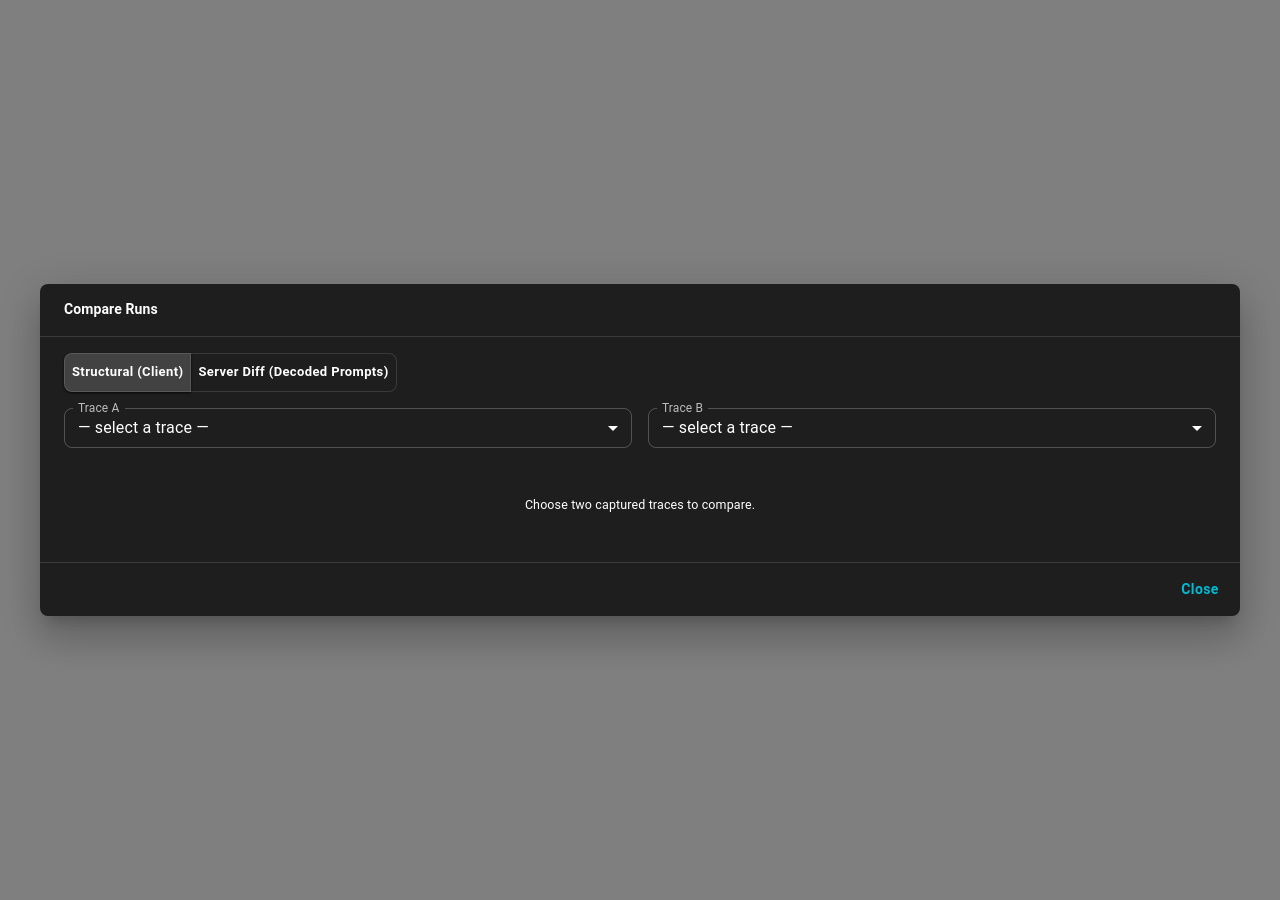
CompareRunsDialog › surfaces a server error from the diff endpoint
Select "Unscoped (1 requests)" in the dropdown labelled "Trace A" at (348, 428), box [64,408,632,448]
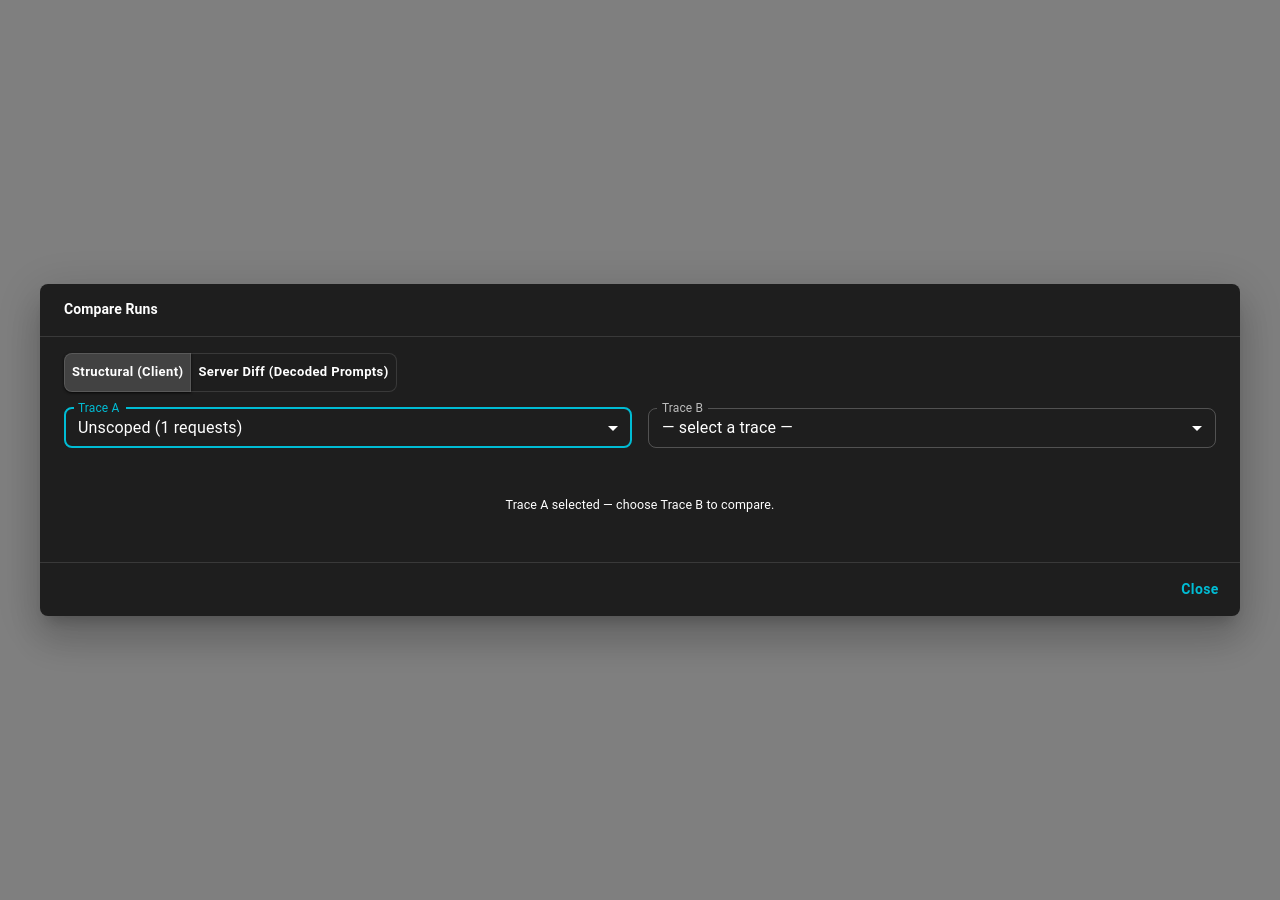
Select "Unscoped (1 requests)" in the dropdown labelled "Trace B" at (932, 428), box [648,408,1216,448]
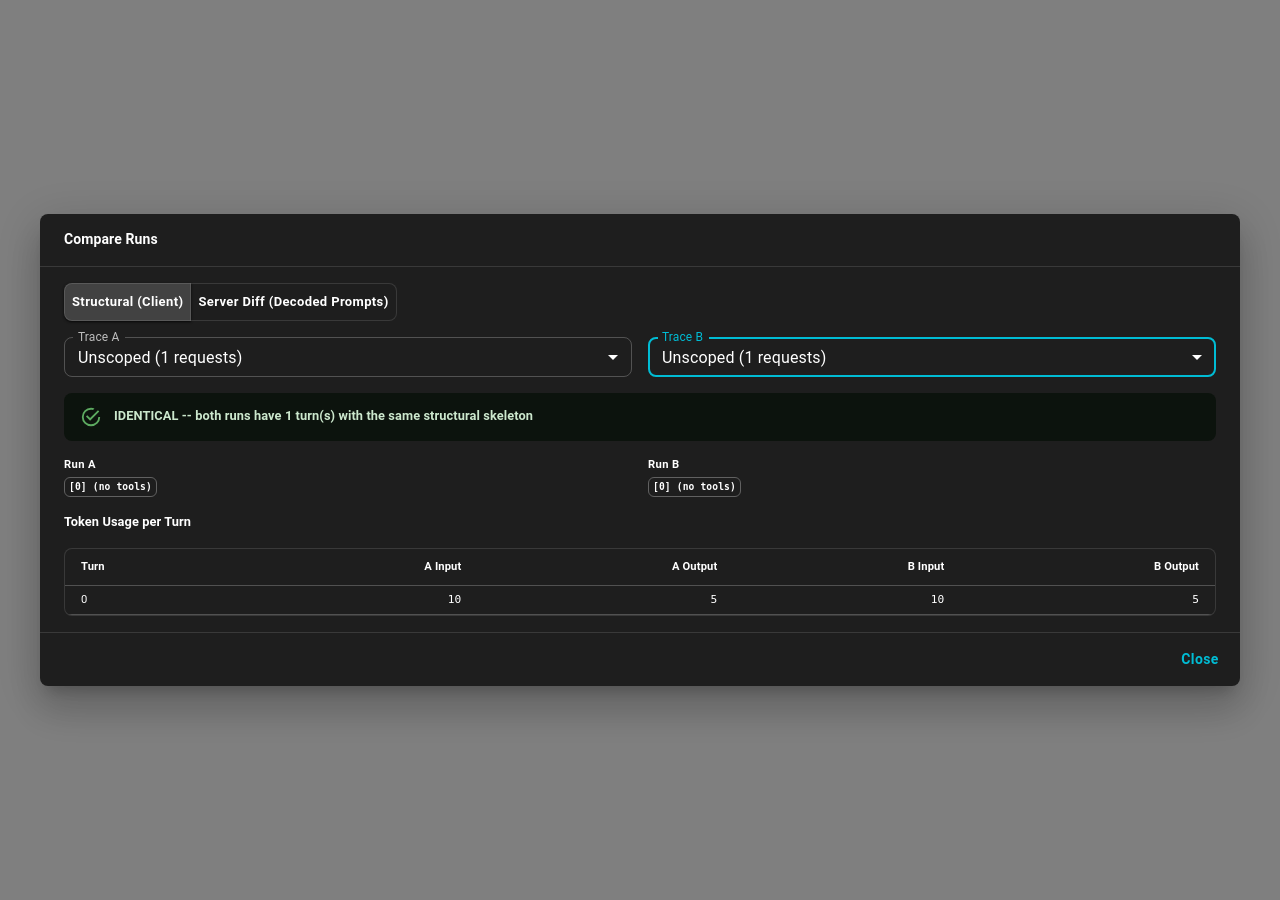
Click the button "Server Diff (Decoded Prompts)" at (294, 302), box [190,283,397,322]
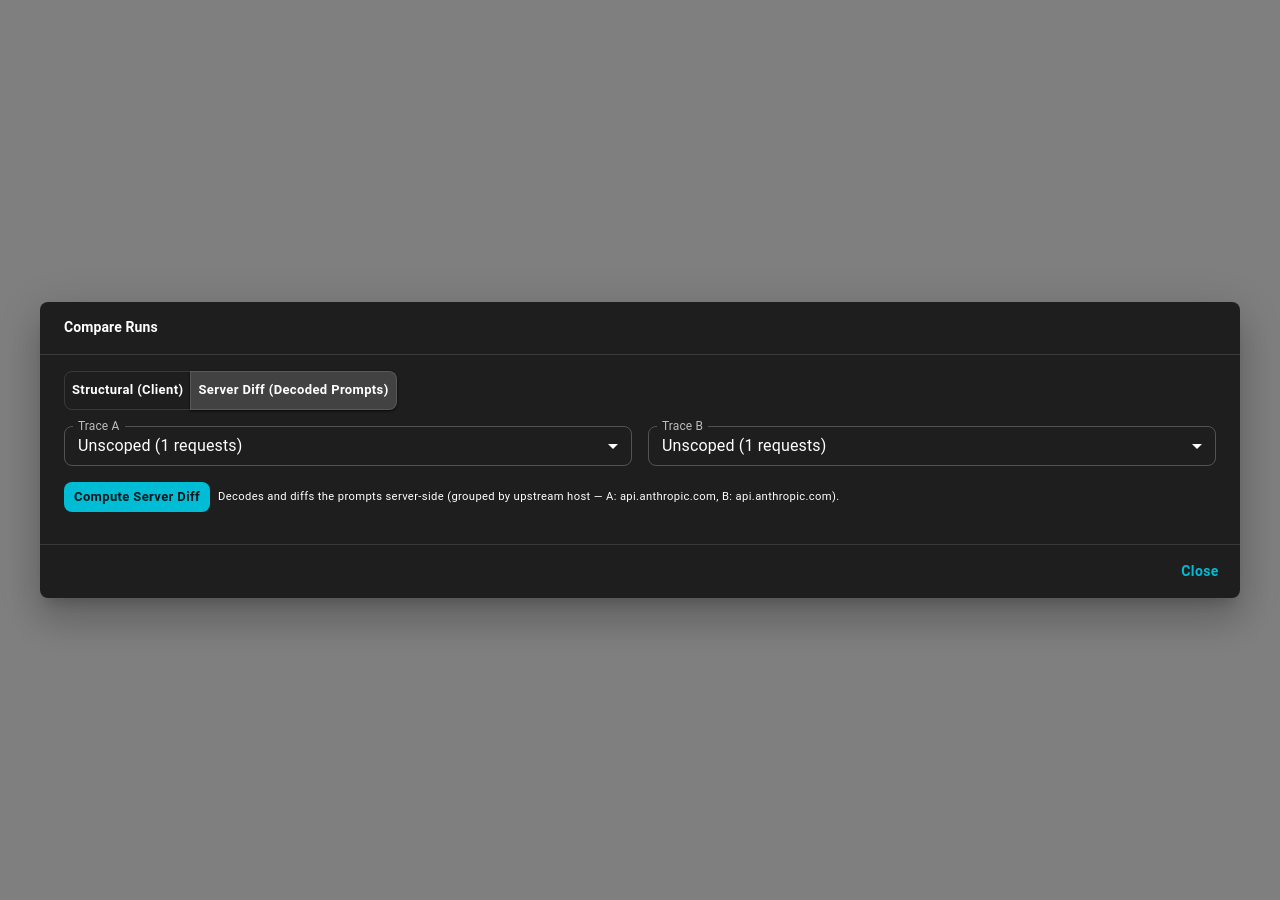
Click the button "Compute Server Diff" at (137, 497), box [64,482,210,512]
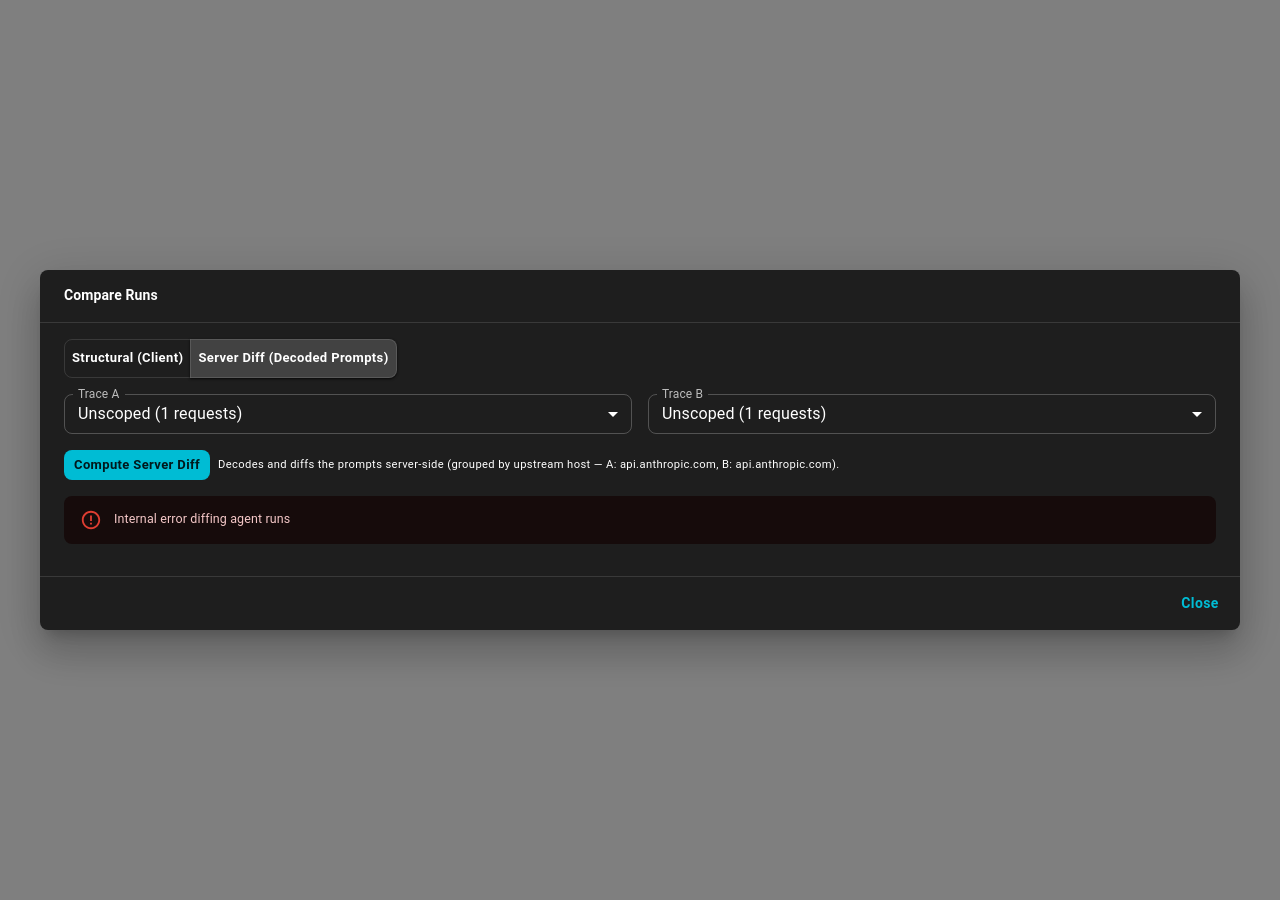
Now the text "Internal error diffing agent runs" is shown, box [114,511,290,526]
